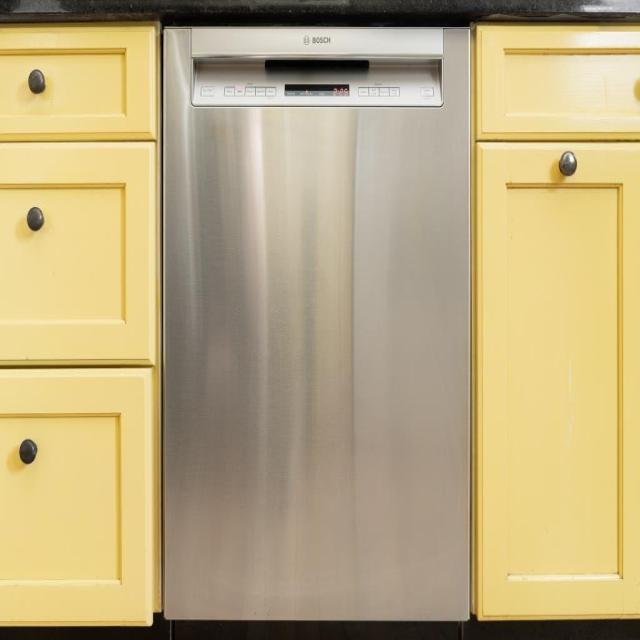dishwasher: (150, 5, 486, 640)
